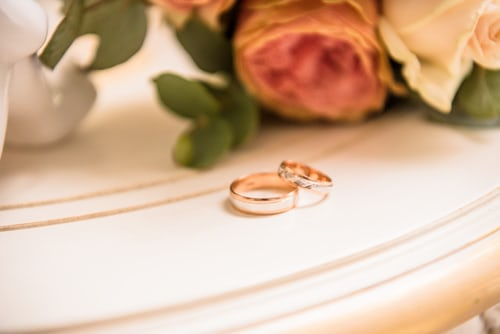ring: (225, 155, 338, 216)
